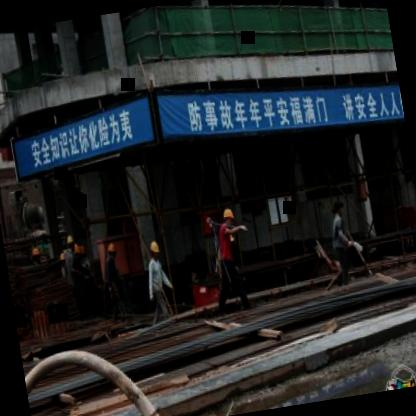head: (332, 196, 346, 219)
helmet: (219, 203, 238, 230), (145, 236, 161, 260), (104, 238, 119, 260), (63, 231, 78, 252)
